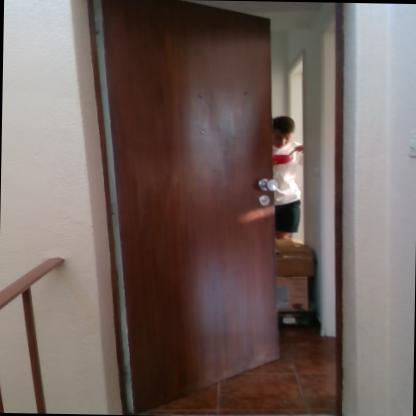semi: (85, 0, 356, 408)
